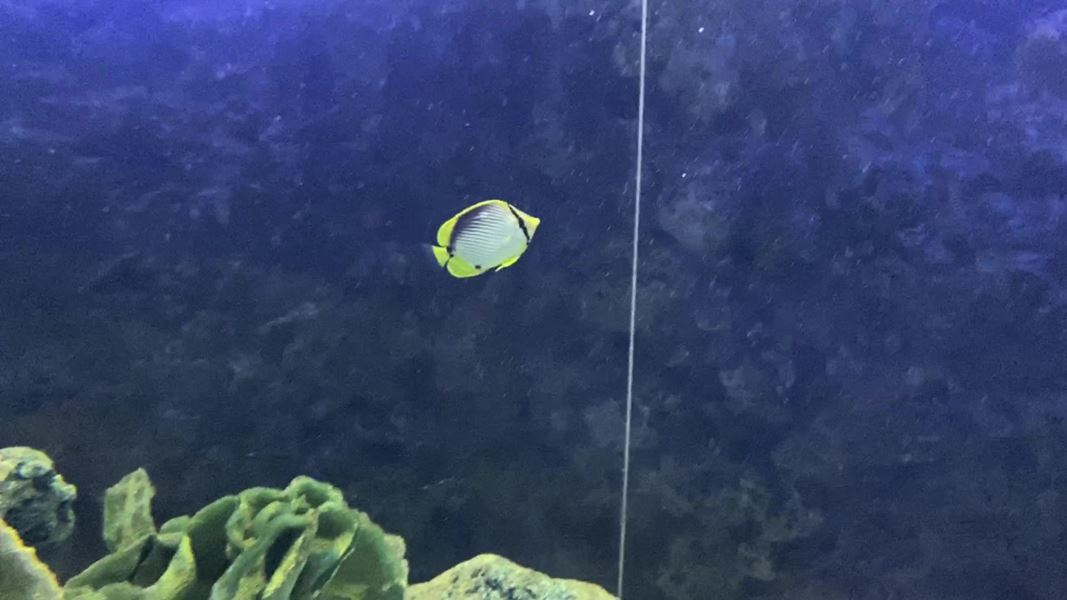Black-backed butterflyfish: (411, 192, 550, 290)
